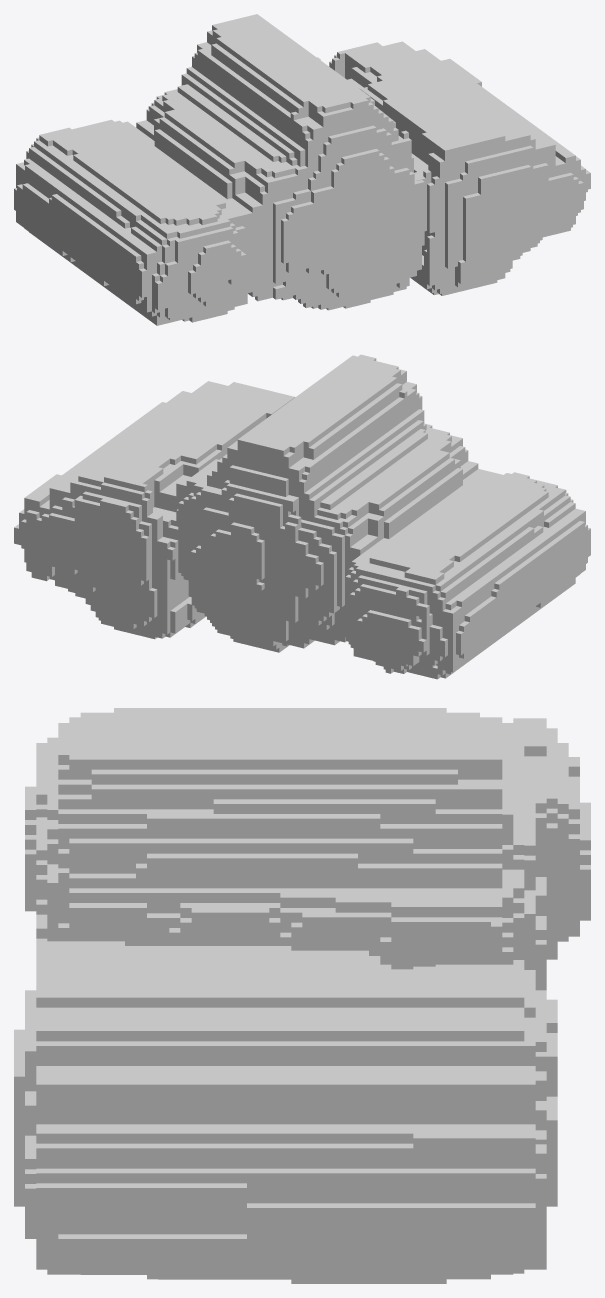
Rendered from Clouds.obj.
3 renders of one model, top to bottom at view 1: azimuth 30°, elevation 25°; view 2: azimuth 150°, elevation 25°; view 3: azimuth 270°, elevation 25°, orthographic. The views are drawn at different scales.
Size of the model in its own units: 8.8 by 4 by 5.2.
1 material, 1 textured.
